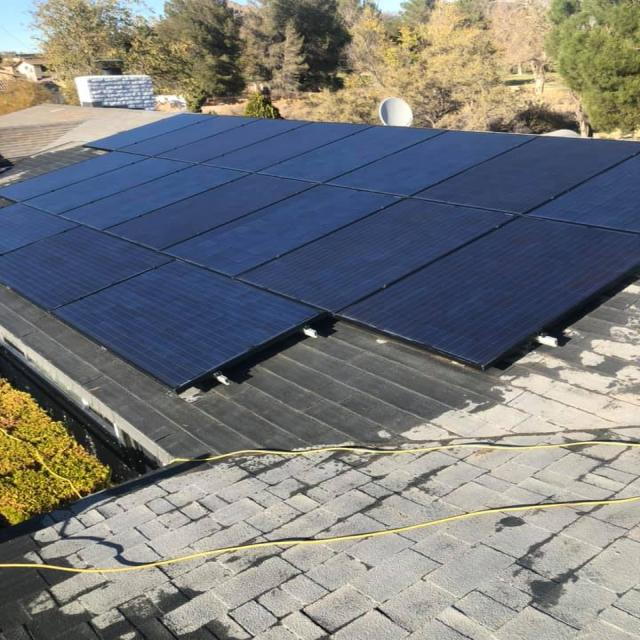clean-solar-panel: (0, 114, 638, 390)
